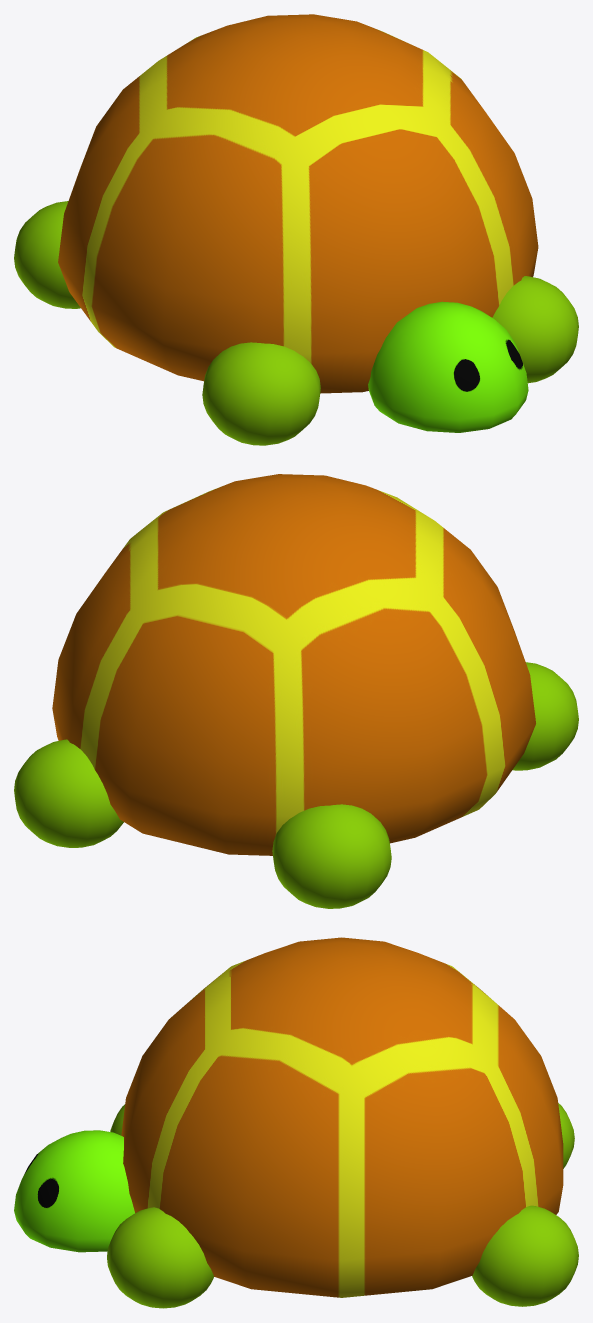
File: TortoiseNew.fbx
3 renders of one model, top to bottom at view 1: azimuth 30°, elevation 25°; view 2: azimuth 150°, elevation 25°; view 3: azimuth 270°, elevation 25°, orthographic. The views are drawn at different scales.
Parts seen in each view (by area): view 1: pSphere1, pSphere4, pSphere10, pSphere9, pSphere11; view 2: pSphere1, pSphere11, pSphere12, pSphere10; view 3: pSphere1, pSphere4, pSphere9, pSphere12, pSphere11.
Part boxes in pixels (x1=…): pSphere1: x1=58, y1=14, x2=538, y2=393; pSphere4: x1=368, y1=301, x2=528, y2=432; pSphere10: x1=202, y1=342, x2=320, y2=445; pSphere9: x1=492, y1=276, x2=578, y2=383; pSphere11: x1=14, y1=201, x2=80, y2=308; pSphere1: x1=52, y1=474, x2=535, y2=855; pSphere11: x1=272, y1=804, x2=391, y2=908; pSphere12: x1=14, y1=739, x2=123, y2=847; pSphere10: x1=512, y1=662, x2=578, y2=770; pSphere1: x1=121, y1=937, x2=563, y2=1297; pSphere4: x1=14, y1=1130, x2=134, y2=1252; pSphere9: x1=107, y1=1207, x2=213, y2=1308; pSphere12: x1=472, y1=1205, x2=578, y2=1306; pSphere11: x1=558, y1=1103, x2=574, y2=1168.
Bounding box in the file's own units: 4.86 × 3.38 × 6.05.
